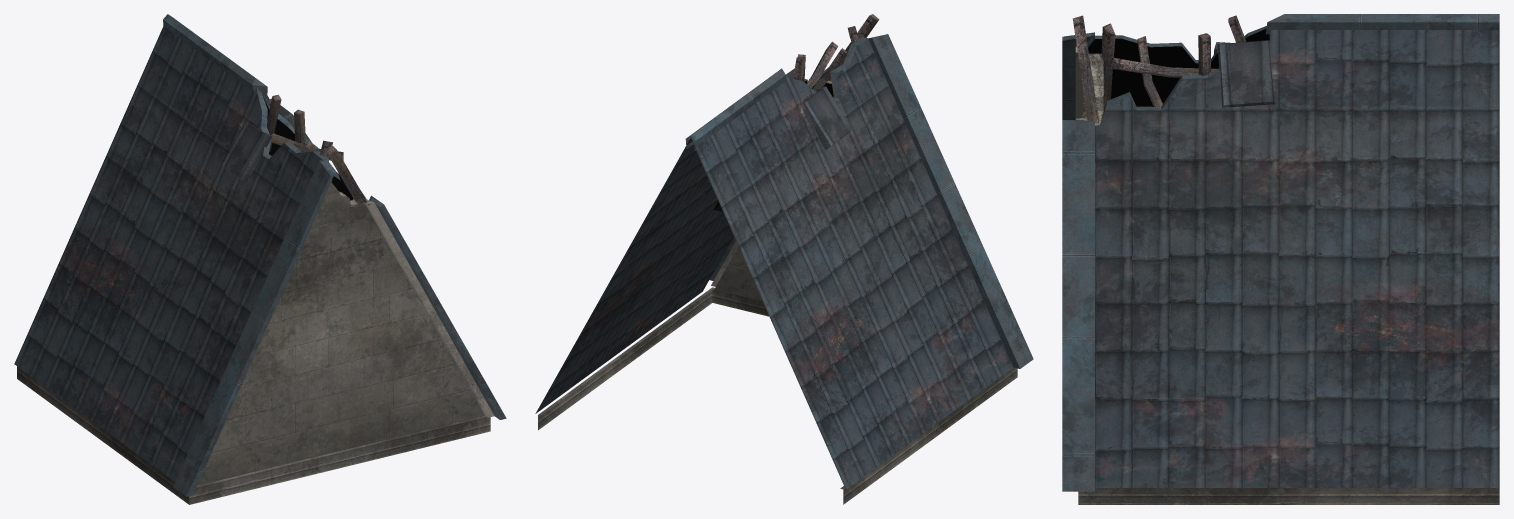
The model's file is bg_lut_lucastle_house07c_sm_ysi.FBX.
The picture shows the model from 3 angles, left to right: view 1: azimuth 30°, elevation 25°; view 2: azimuth 150°, elevation 25°; view 3: azimuth 270°, elevation 25°; orthographic projection. The views are drawn at different scales.
Visible parts, largest first — view 1: bg_lut_lucastle_house07c_sm_ysi; view 2: bg_lut_lucastle_house07c_sm_ysi; view 3: bg_lut_lucastle_house07c_sm_ysi.
Part boxes in pixels (x1=…): bg_lut_lucastle_house07c_sm_ysi: x1=14, y1=14, x2=506, y2=504; bg_lut_lucastle_house07c_sm_ysi: x1=535, y1=14, x2=1033, y2=504; bg_lut_lucastle_house07c_sm_ysi: x1=1062, y1=14, x2=1499, y2=504.
Bounding box in the file's own units: 259 × 253 × 250.
